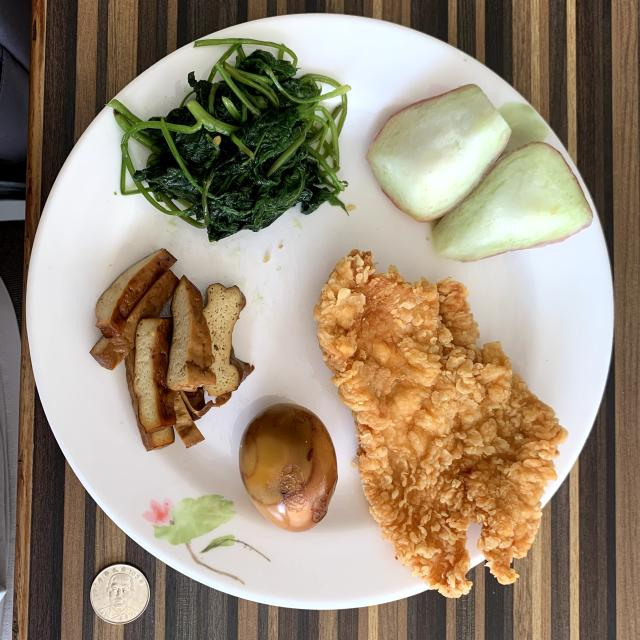coin: (90, 564, 150, 625)
firm tofu: (91, 249, 252, 450)
fried chicken cutlet: (314, 251, 568, 598)
soy egg: (239, 404, 338, 531)
sweet potato leaves: (110, 39, 349, 240)
